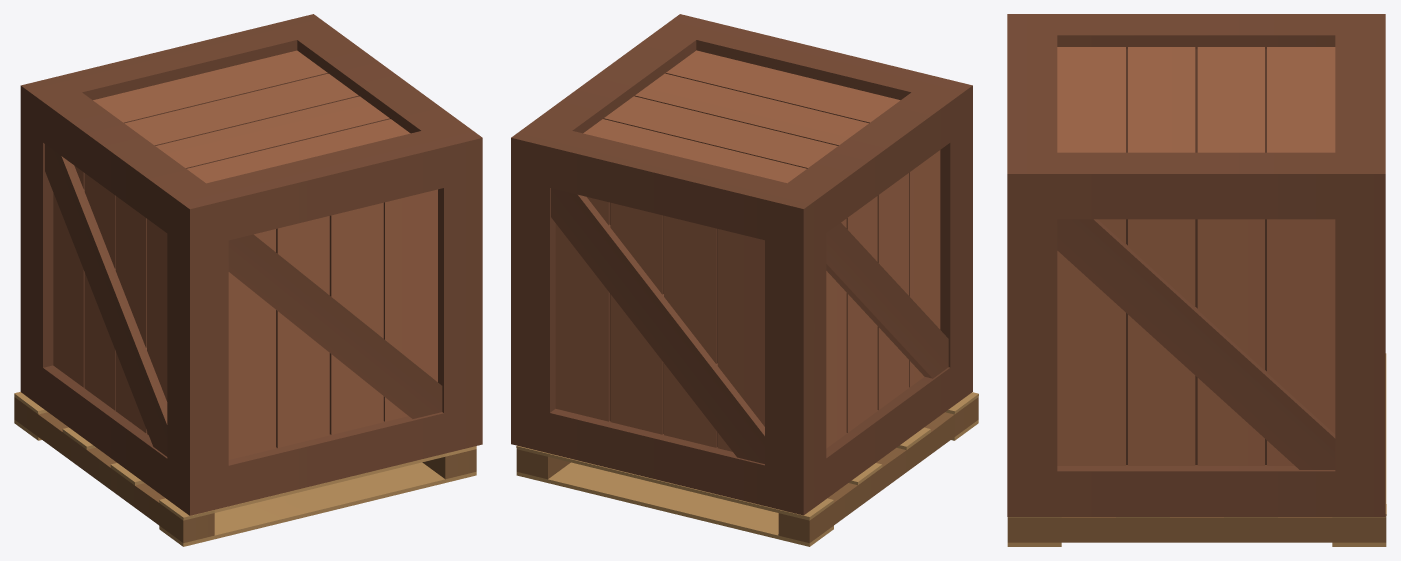
The model's file is Small Shipping Crate.fbx.
3 views of the same model, side by side, from view 1: azimuth 30°, elevation 25°; view 2: azimuth 150°, elevation 25°; view 3: azimuth 270°, elevation 25° (orthographic). The views are drawn at different scales.
Visible parts, largest first — view 1: Small Shipping Crate #1; view 2: Small Shipping Crate #1; view 3: Small Shipping Crate #1.
Part boxes in pixels (x1,y1,x2,y2): Small Shipping Crate #1: (14, 14, 482, 546); Small Shipping Crate #1: (511, 14, 978, 546); Small Shipping Crate #1: (1007, 14, 1386, 546).
Size of the model in its own units: 320 by 293 by 298.
1 material, 1 textured.
